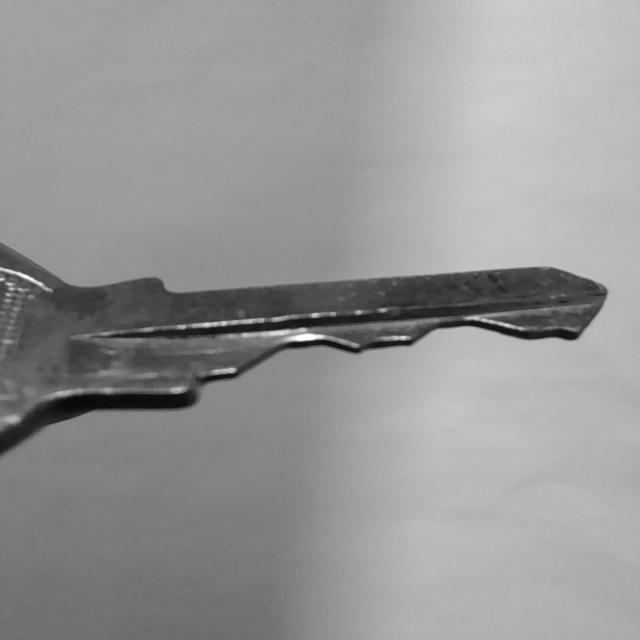key: (0, 245, 607, 451)
